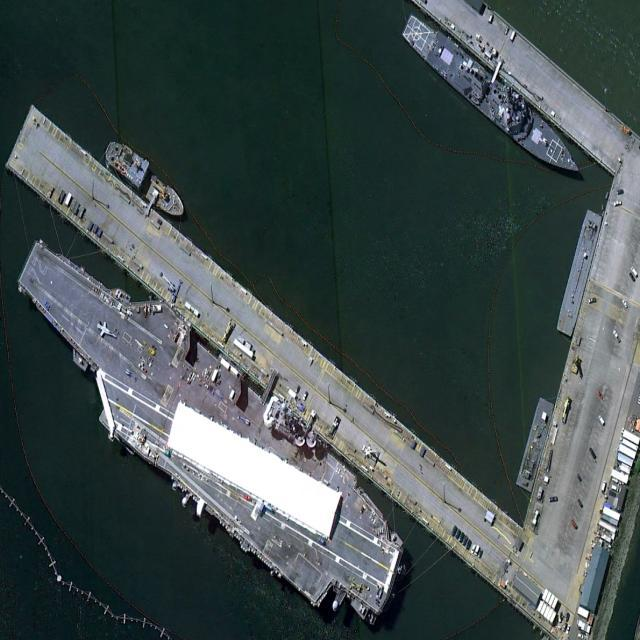Aircraft Carrier: (1, 207, 421, 640)
Destroyer: (399, 8, 585, 185)
Other Ship: (101, 133, 189, 222)
